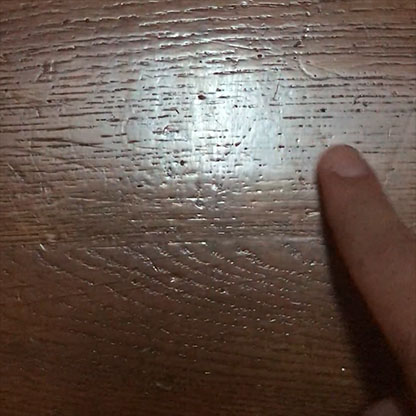fingertip: (312, 133, 384, 197)
